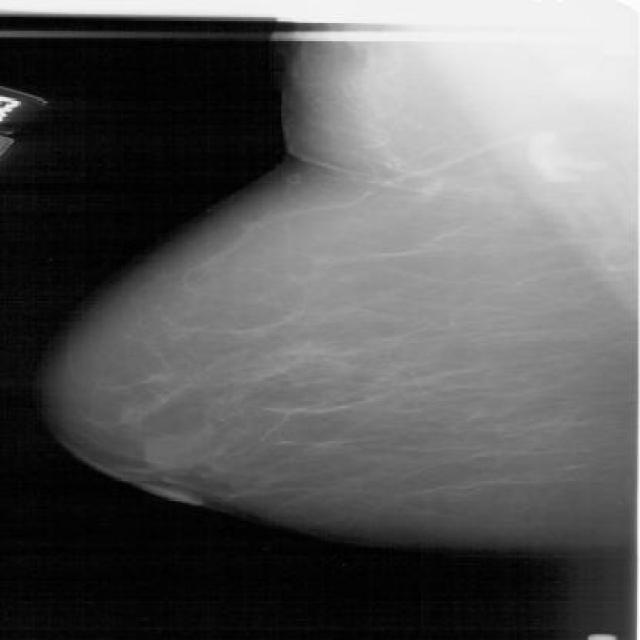tumor: (332, 41, 408, 160)
